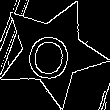O_N: (27, 24, 77, 81)
